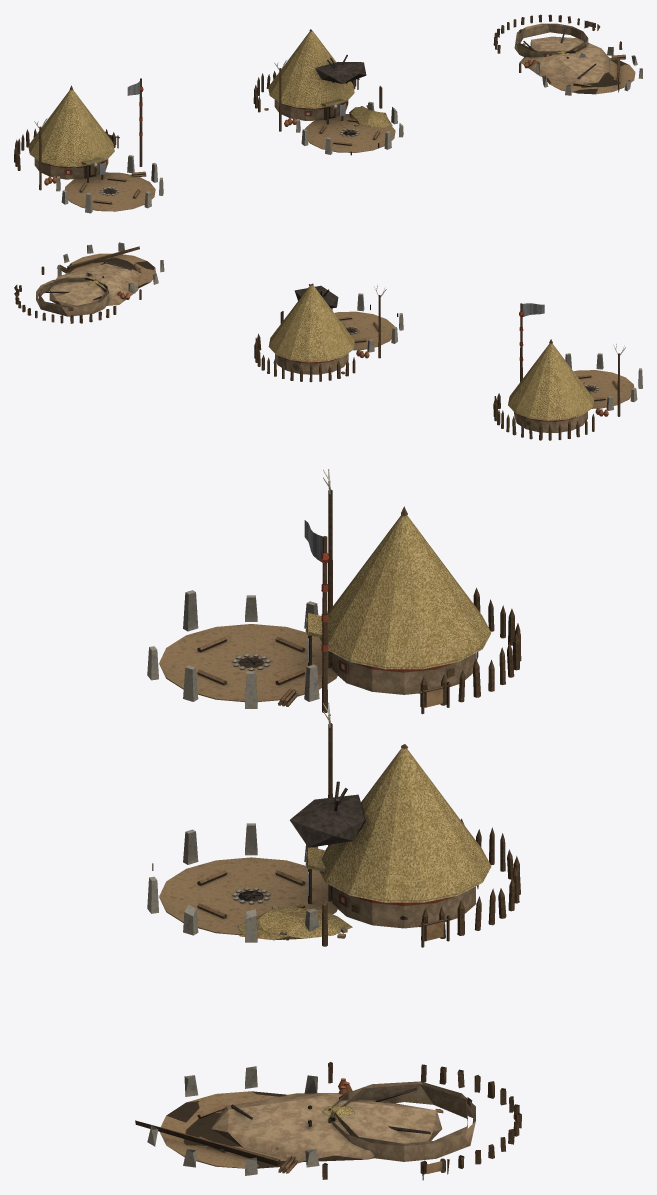
Rendered from civic-stone.glb.
The picture shows the model from 3 angles, top to bottom: view 1: azimuth 30°, elevation 25°; view 2: azimuth 150°, elevation 25°; view 3: azimuth 270°, elevation 25°; orthographic projection. The views are drawn at different scales.
Parts seen in each view (by area): view 1: LOD0.001, LOD0, LOD0.002; view 2: LOD0, LOD0.001, LOD0.002; view 3: LOD0.001, LOD0, LOD0.002.
Part boxes in pixels (x1,y1,x2,y2): LOD0.001: [253, 29, 403, 155]; LOD0: [14, 78, 163, 213]; LOD0.002: [493, 14, 642, 95]; LOD0: [493, 303, 642, 440]; LOD0.001: [254, 283, 403, 382]; LOD0.002: [14, 242, 164, 323]; LOD0.001: [147, 702, 520, 947]; LOD0: [147, 469, 521, 714]; LOD0.002: [135, 1062, 521, 1180].
Size of what is drawn, in the model's own units: 7.38 by 1.05 by 2.1.
Materials: 2 (2 with a texture image).
